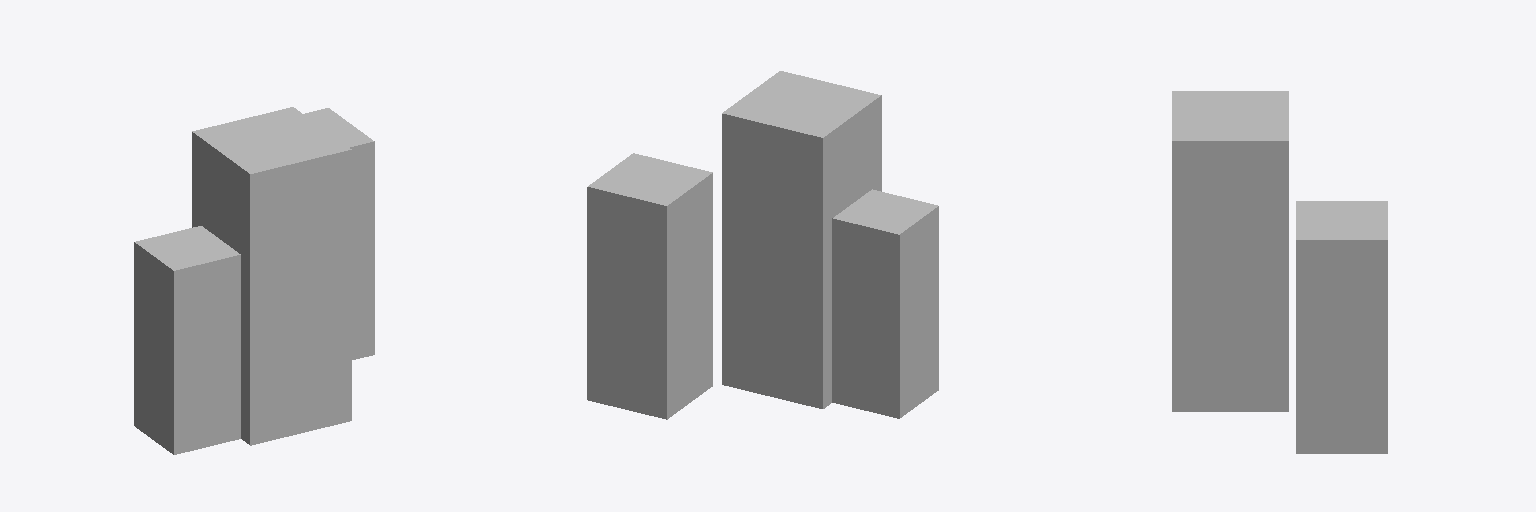
File: Crystal3.obj
3 renders of one model, left to right at view 1: azimuth 30°, elevation 25°; view 2: azimuth 150°, elevation 25°; view 3: azimuth 270°, elevation 25°, orthographic.
Parts seen in each view (by area): view 1: Crystal1_Cube, Crystal1.001_Cube.005, Crystal1.002_Cube.006; view 2: Crystal1_Cube, Crystal1.002_Cube.006, Crystal1.001_Cube.005; view 3: Crystal1_Cube, Crystal1.002_Cube.006.
Boxes of the visible parts, x1=… form: Crystal1_Cube: x1=192, y1=107, x2=351, y2=445; Crystal1.001_Cube.005: x1=134, y1=226, x2=240, y2=454; Crystal1.002_Cube.006: x1=304, y1=108, x2=374, y2=359; Crystal1_Cube: x1=722, y1=71, x2=881, y2=408; Crystal1.002_Cube.006: x1=587, y1=153, x2=712, y2=419; Crystal1.001_Cube.005: x1=832, y1=189, x2=938, y2=418; Crystal1_Cube: x1=1172, y1=91, x2=1288, y2=411; Crystal1.002_Cube.006: x1=1296, y1=201, x2=1387, y2=453.
Bounding box in the file's own units: 0.4881 × 0.5 × 0.3604.